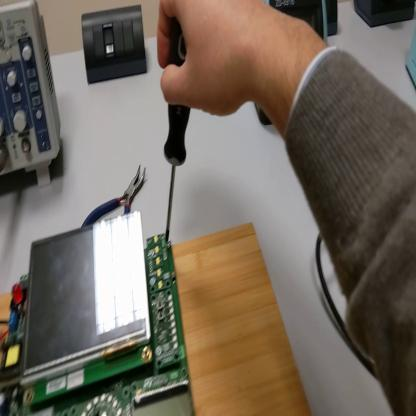hand: (153, 4, 270, 120)
low voltage board: (1, 213, 194, 416)
oscilloscope: (3, 3, 63, 193)
pliers: (82, 164, 147, 230)
screwdriver-: (164, 21, 192, 245)
socket: (355, 2, 416, 28), (327, 3, 340, 37)
welder station: (256, 3, 329, 127), (407, 23, 416, 91)
working area: (1, 223, 310, 415)
